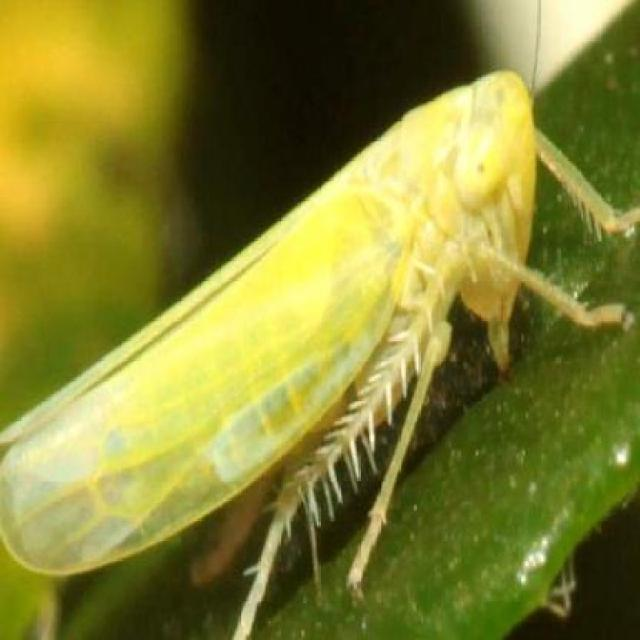green-leafhopper: (0, 69, 638, 640)
